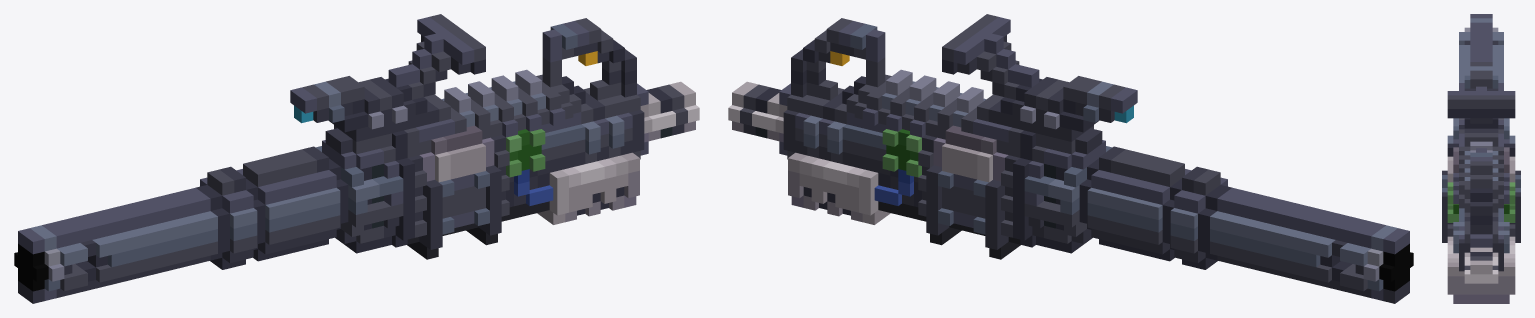
Rendered from Cannon_Q6O_Sassee.obj.
3 views of the same model, side by side, from view 1: azimuth 30°, elevation 25°; view 2: azimuth 150°, elevation 25°; view 3: azimuth 270°, elevation 25° (orthographic). The views are drawn at different scales.
Size of the model in its own units: 56 by 16 by 7.7.
